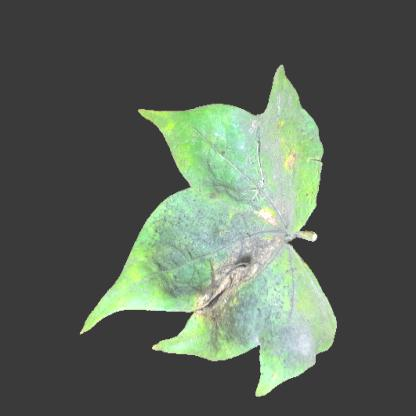curl_stage1: (129, 259, 165, 309), (175, 122, 199, 175), (192, 317, 211, 338), (259, 208, 278, 224), (284, 154, 298, 172), (161, 124, 176, 138)
sooty: (176, 221, 295, 301), (171, 193, 259, 225), (261, 124, 291, 216), (218, 305, 288, 343), (234, 111, 266, 176), (284, 317, 316, 374)
